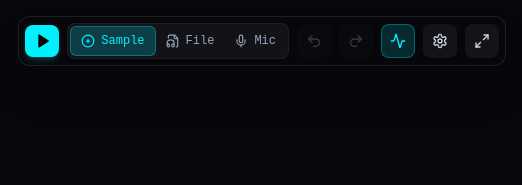
Toolbar Component › displays audio error banner when microphone permission is denied
Click the button with aria-label "use microphone". click: (255, 41)
box: [224,27,286,55]
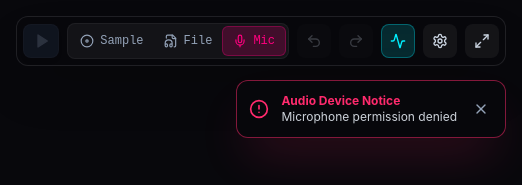
expect the text "Microphone permission denied" is shown: met, box [281,109,457,125]
